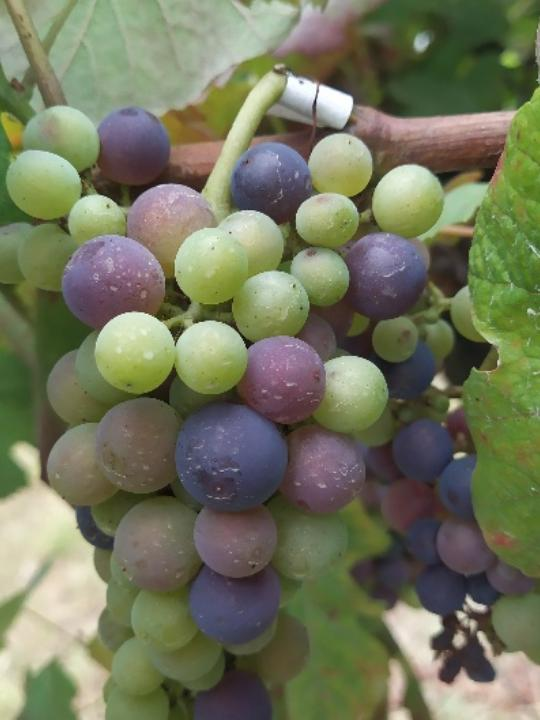grape: (2, 100, 452, 720)
